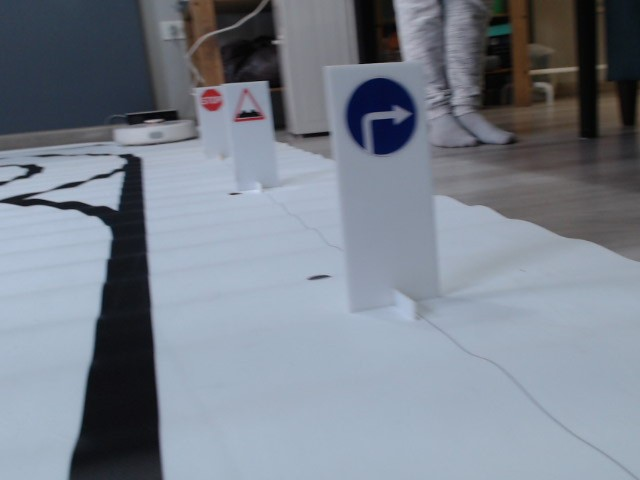Nerov: (231, 88, 265, 121)
Right: (343, 76, 420, 157)
Stop: (199, 88, 222, 113)
